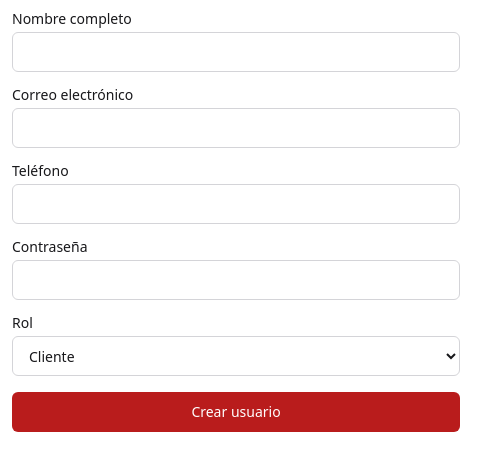
Formulario de alta (FR-009, FR-014, SC-005) › presenta un 409 del servidor junto al campo que no podía anticipar
The width and height of the screenshot is (481, 475).
Type "María Pérez" into the field labelled "Nombre completo".
click(236, 52); type("María Pérez")  # box [12,32,460,72]
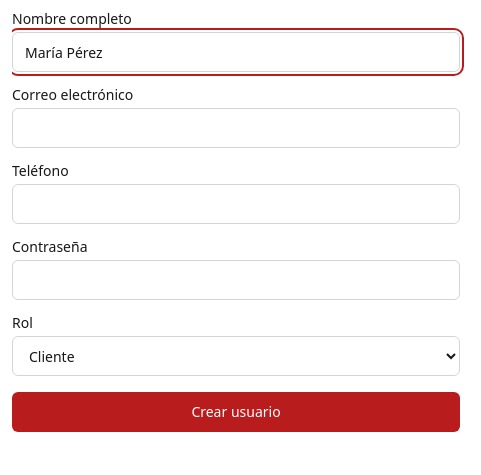
Type "maria.perez@ejemplo.cl" into the field labelled "Correo electrónico".
click(236, 128); type("maria.perez@ejemplo.cl")  # box [12,108,460,148]
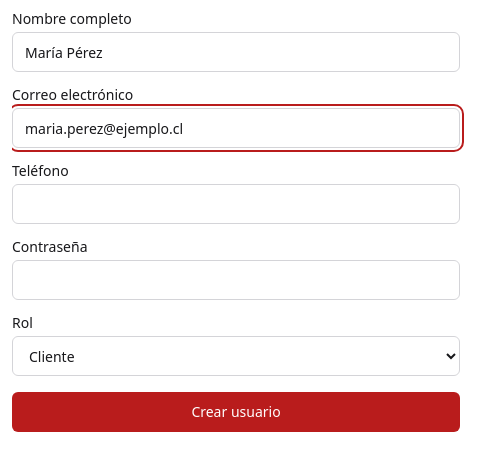
Type "+56911112222" into the field labelled "Teléfono".
click(236, 204); type("+56911112222")  # box [12,184,460,224]
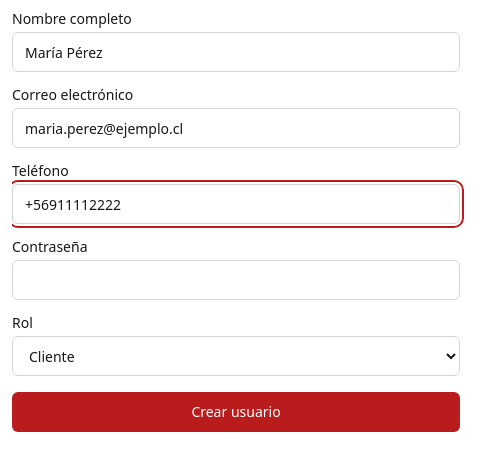
Type "contrasena8" into the field labelled "Contraseña".
click(236, 280); type("contrasena8")  # box [12,260,460,300]
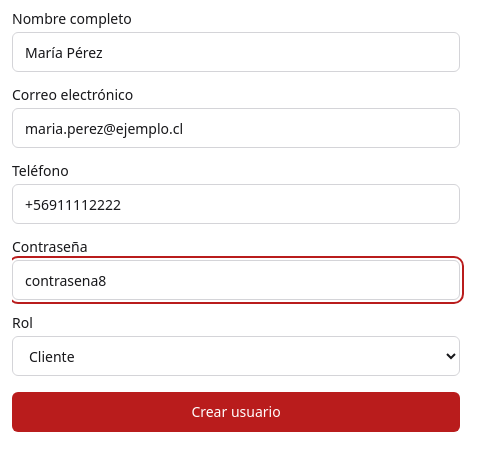
Click the button "Crear usuario".
click(236, 412)  # box [12,392,460,432]
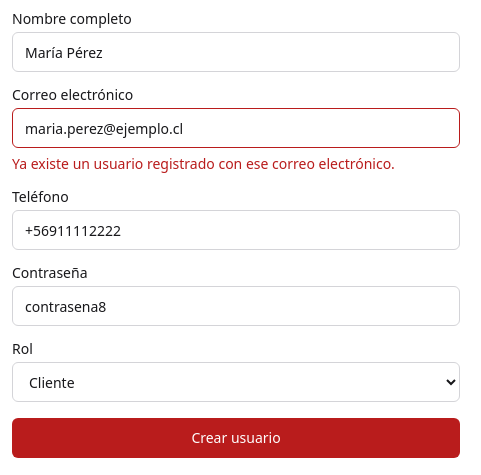
expect the text "Ya existe un usuario registrado con ese correo electrónico." is shown: met, box [12,154,460,174]
